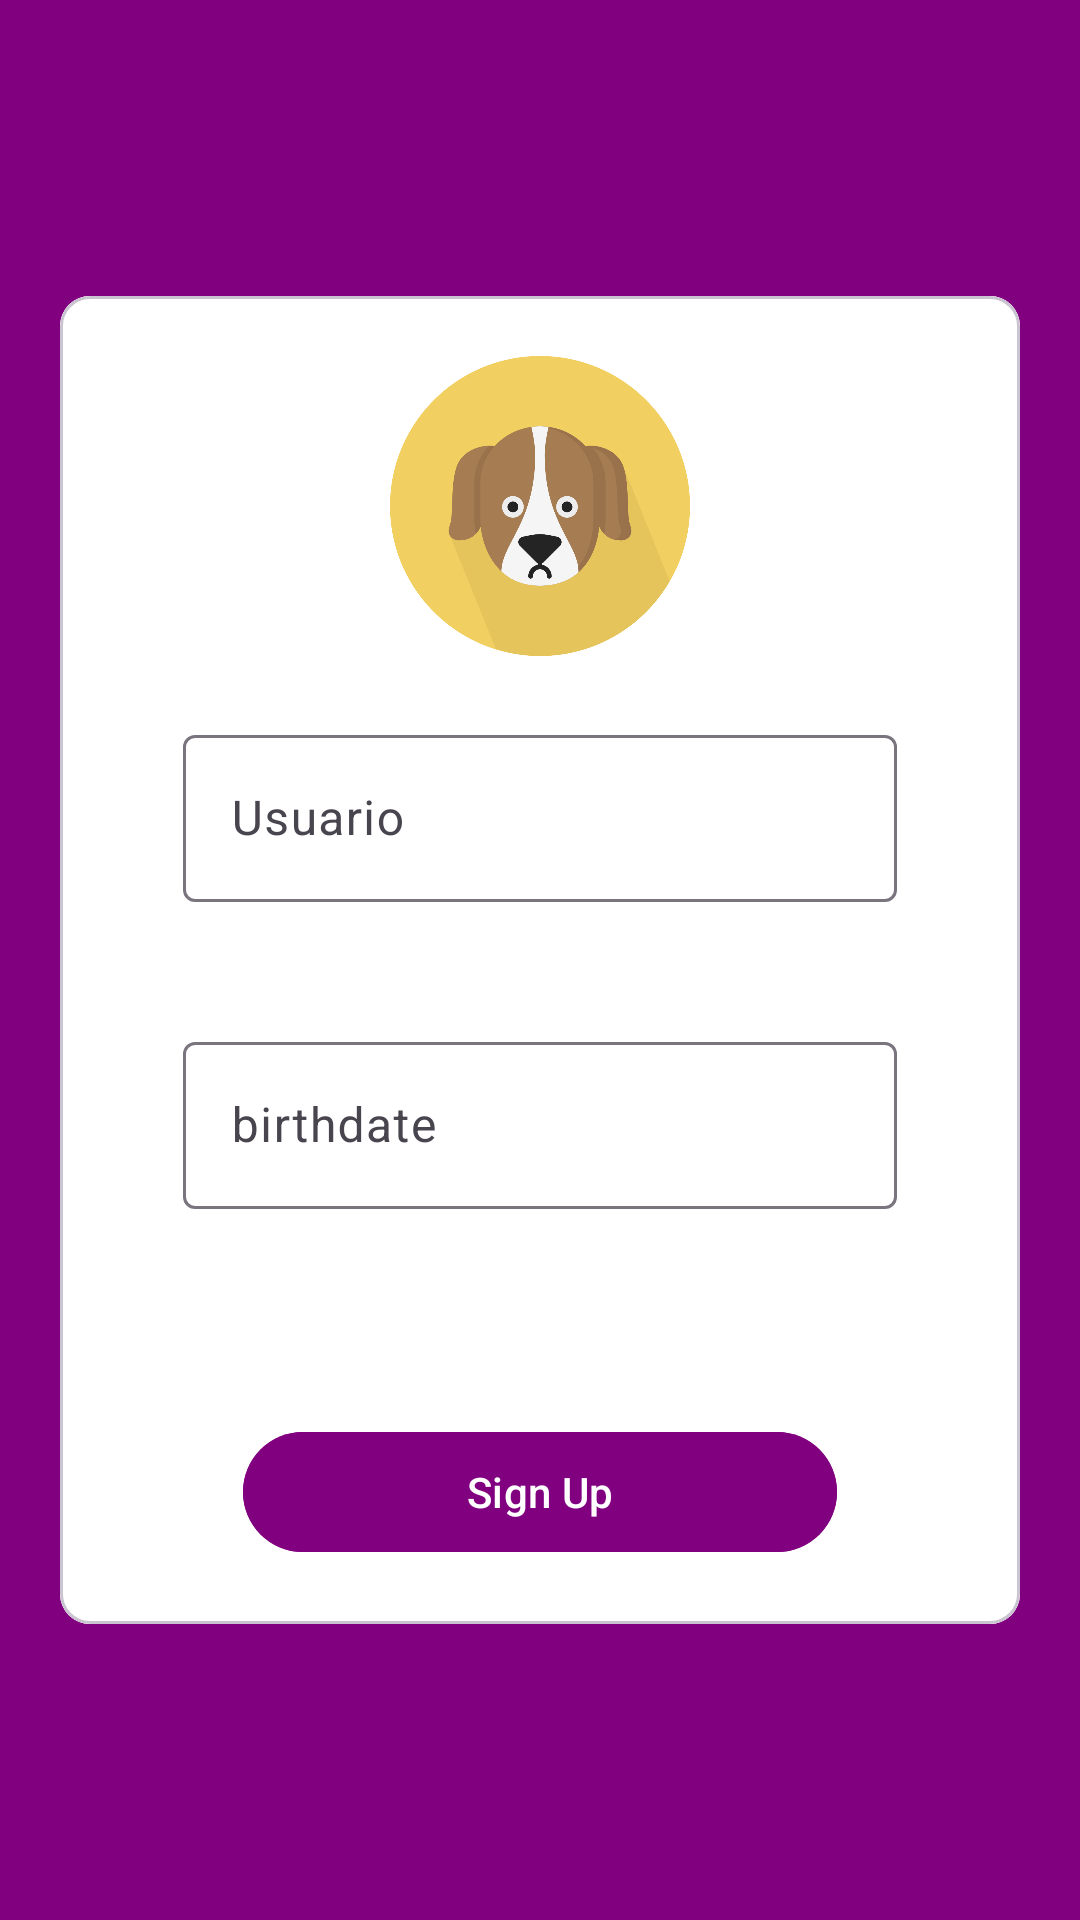

Where to tap for icons on this 1080w x 1920h app screen, as [x,y]:
user profile: [540,506]
